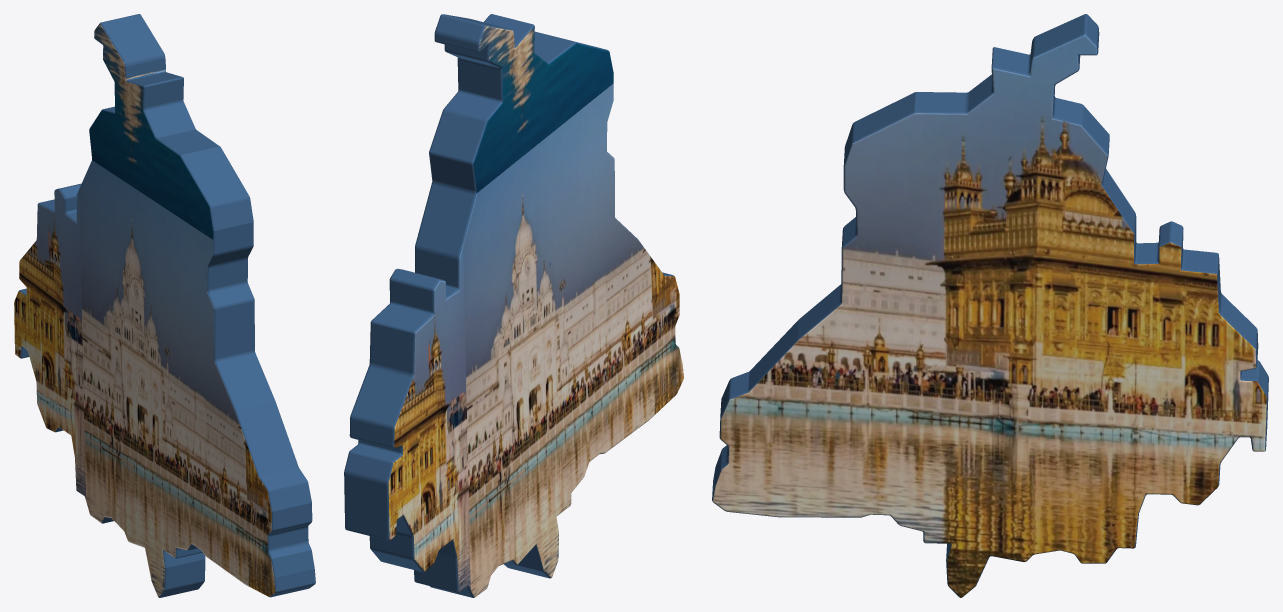
Rendered from Punjab.glb.
The picture shows the model from 3 angles, left to right: view 1: azimuth 30°, elevation 25°; view 2: azimuth 150°, elevation 25°; view 3: azimuth 270°, elevation 25°; orthographic projection. The views are drawn at different scales.
Parts seen in each view (by area): view 1: Object_6; view 2: Object_6; view 3: Object_6.
Part boxes in pixels (x1,y1,x2,y2): Object_6: [14, 14, 315, 597]; Object_6: [344, 14, 683, 597]; Object_6: [712, 14, 1268, 597].
Bounding box in the file's own units: 0.0383 × 0.4769 × 0.4264.
1 material, 1 textured.
